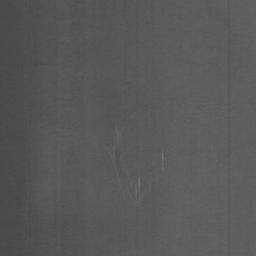Silk spot: (130, 173, 148, 192), (115, 147, 120, 168)
